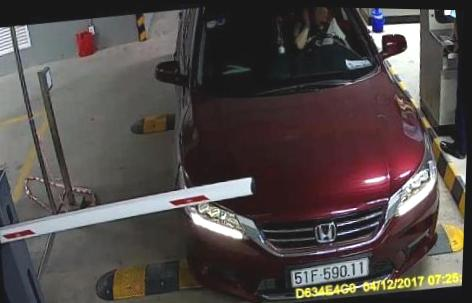License_Plate: (278, 255, 371, 287)
